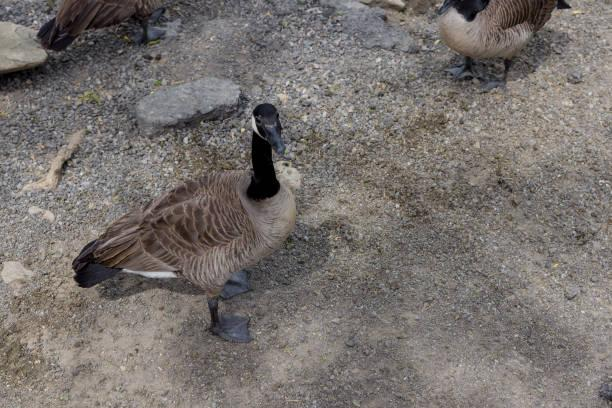Canadian-Goose: (71, 104, 299, 343)
